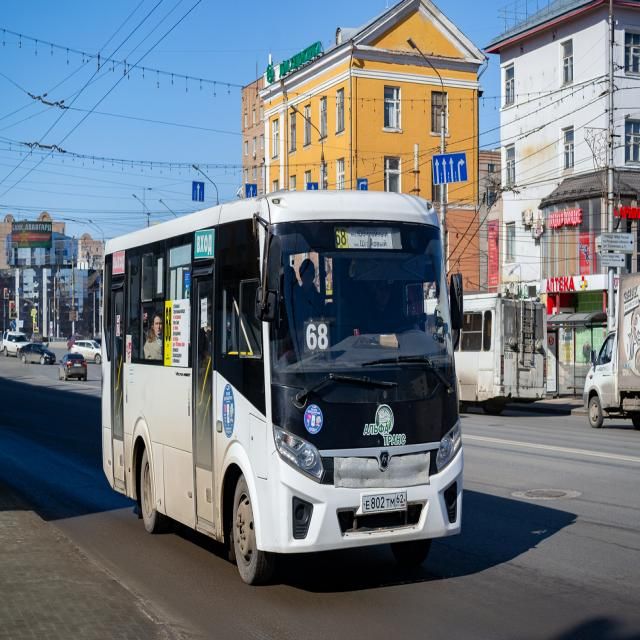number-of-bus: (306, 322, 331, 352), (335, 227, 349, 248)
